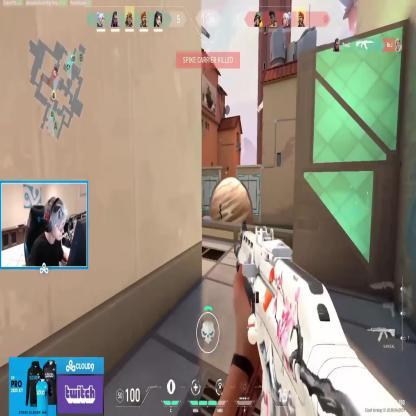enemy: (218, 200, 223, 223)
enemy_head: (219, 201, 221, 206)
